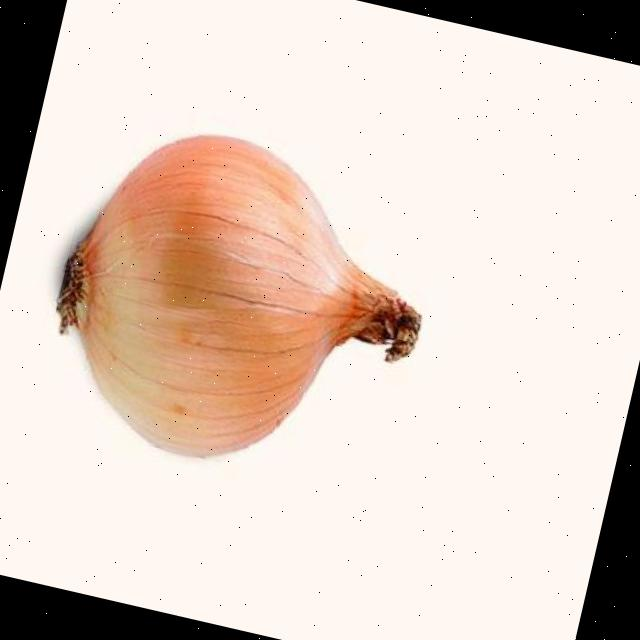Onion: (55, 136, 419, 457)
